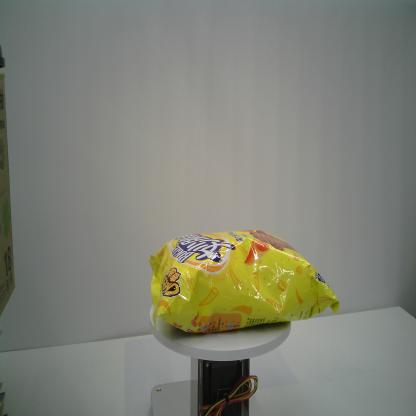Puffed Food: (147, 228, 341, 336)
